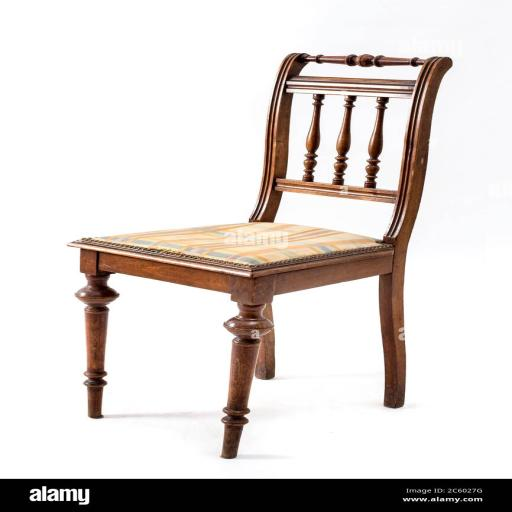chair: (44, 26, 470, 464)
